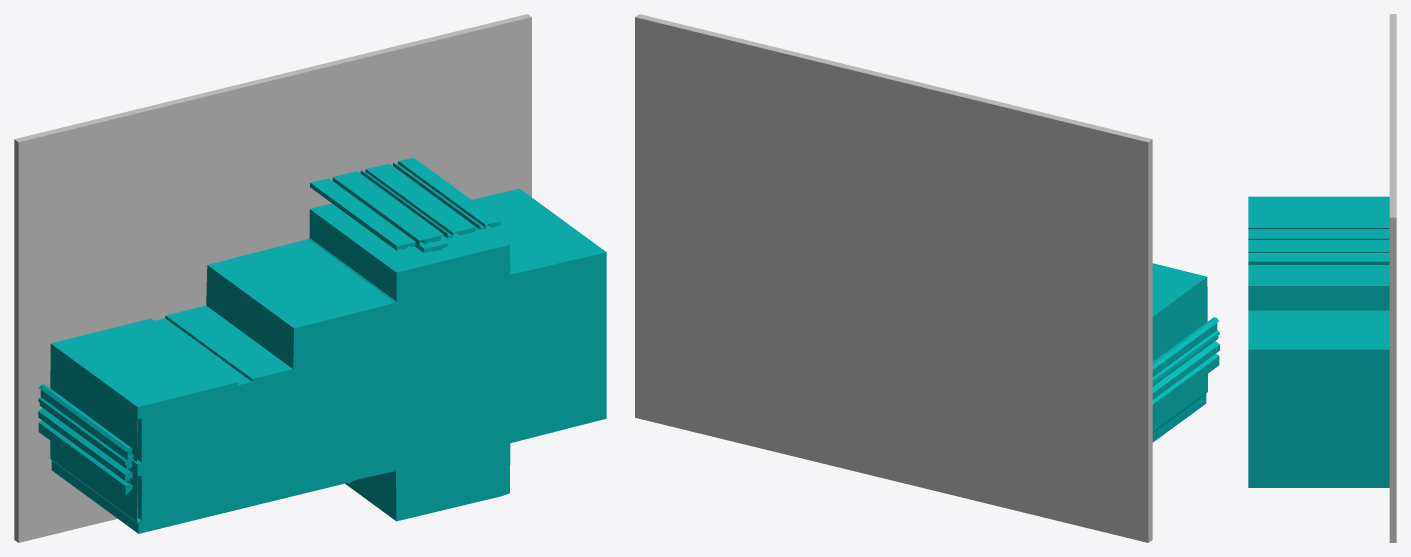
3 views of the same model, side by side, from view 1: azimuth 30°, elevation 25°; view 2: azimuth 150°, elevation 25°; view 3: azimuth 270°, elevation 25° (orthographic). The views are drawn at different scales.
Parts seen in each view (by area): view 1: world; view 2: world; view 3: world.
Boxes of the visible parts, x1,y1,x2,y2 form: world: (14,14,606,542); world: (635,14,1219,542); world: (1248,14,1396,542).
Bounding box in the file's own units: 10.23 × 7.63 × 3.15.
